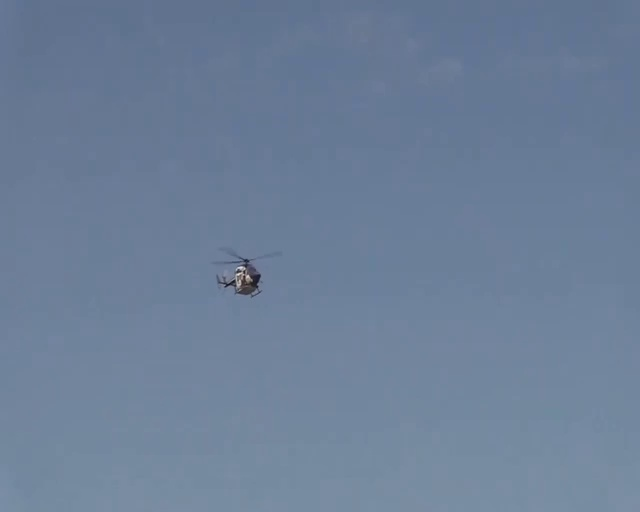HELICOPTER: (211, 245, 282, 296)
